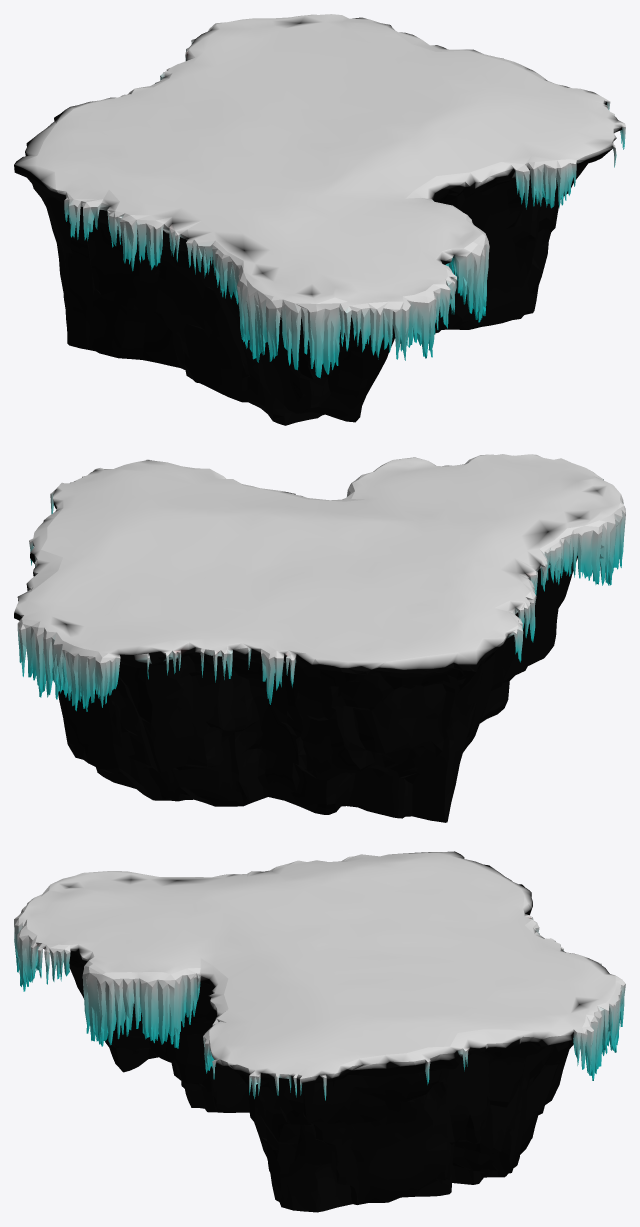
The model's file is CliffIce_4.fbx.
3 renders of one model, top to bottom at view 1: azimuth 30°, elevation 25°; view 2: azimuth 150°, elevation 25°; view 3: azimuth 270°, elevation 25°, orthographic. The views are drawn at different scales.
Visible parts, largest first — view 1: CliffIce_4_LOD0; view 2: CliffIce_4_LOD0; view 3: CliffIce_4_LOD0.
Boxes of the visible parts, x1,y1,x2,y2 form: CliffIce_4_LOD0: [14, 14, 625, 425]; CliffIce_4_LOD0: [14, 454, 625, 822]; CliffIce_4_LOD0: [14, 851, 625, 1212].
Size of what is drawn, in the model's own units: 1885 by 700 by 2138.
